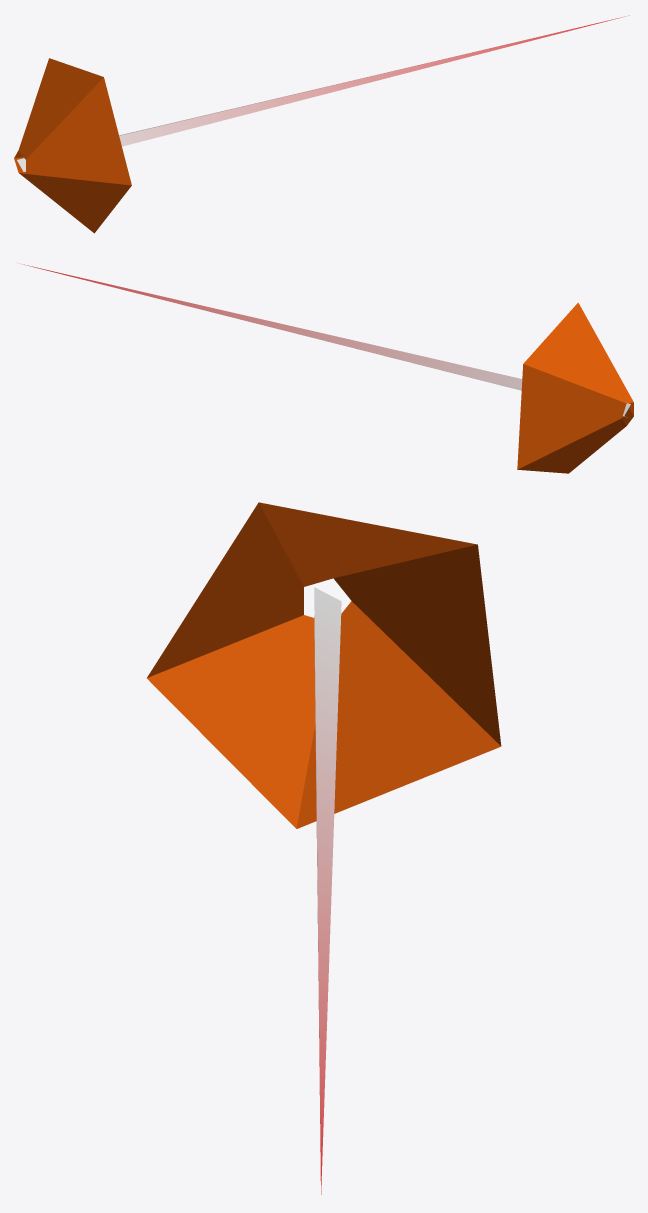
The model's file is fx_flash_ifv.fbx.
3 views of the same model, one above another, from view 1: azimuth 30°, elevation 25°; view 2: azimuth 150°, elevation 25°; view 3: azimuth 270°, elevation 25° (orthographic). The views are drawn at different scales.
Parts seen in each view (by area): view 1: flashifv; view 2: flashifv; view 3: flashifv.
Part boxes in pixels (<box>): flashifv: <box>14,15,629,233</box>; flashifv: <box>20,263,633,473</box>; flashifv: <box>147,502,501,1194</box>.
Size of the model in its own units: 7.26 by 1.85 by 1.82.
